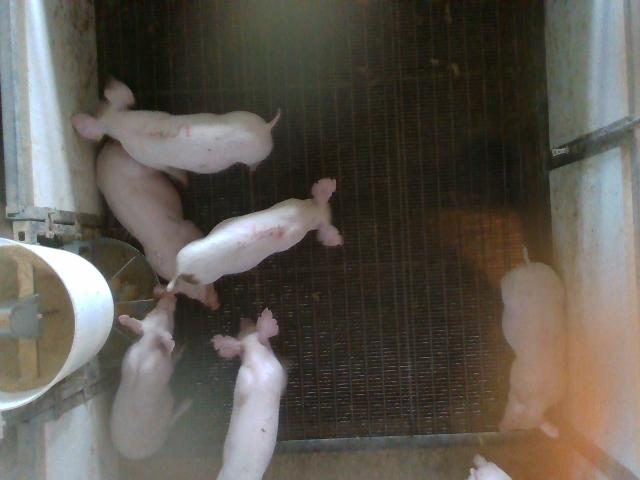pig-3: (71, 79, 280, 179)
pig-5: (168, 179, 342, 289)
